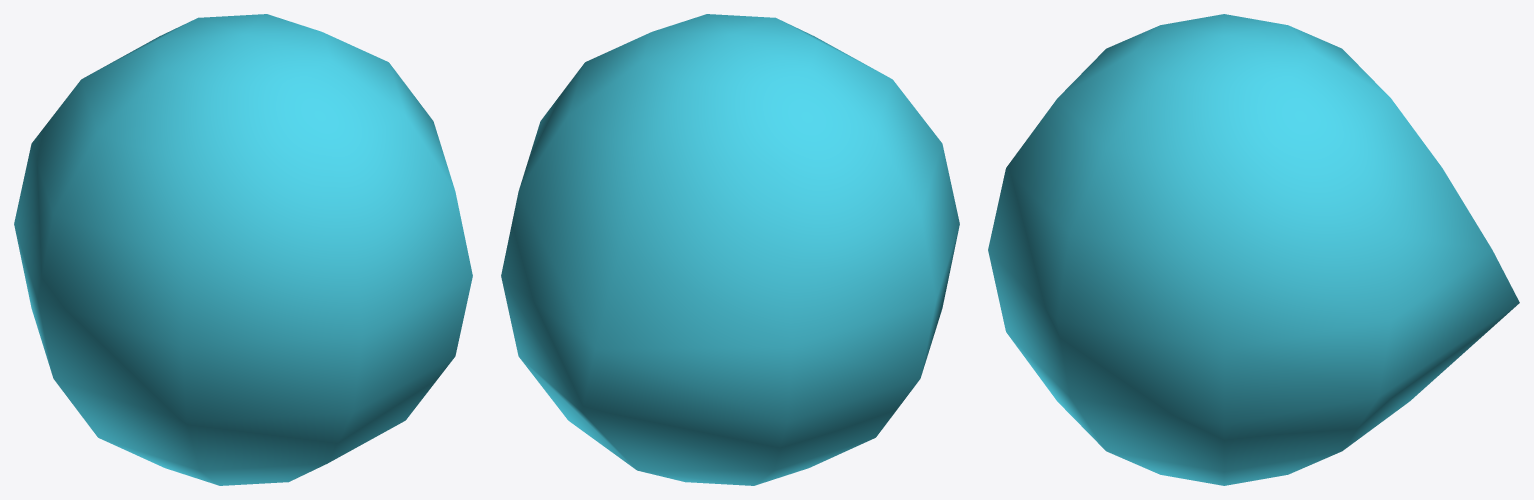
The model's file is bubblegum_blue.fbx.
The picture shows the model from 3 angles, left to right: view 1: azimuth 30°, elevation 25°; view 2: azimuth 150°, elevation 25°; view 3: azimuth 270°, elevation 25°; orthographic projection.
Parts seen in each view (by area): view 1: bubblegum_blue; view 2: bubblegum_blue; view 3: bubblegum_blue.
Boxes of the visible parts, x1,y1,x2,y2 form: bubblegum_blue: [14, 14, 472, 485]; bubblegum_blue: [501, 14, 959, 485]; bubblegum_blue: [988, 14, 1519, 485].
Bounding box in the file's own units: 30.13 × 30.13 × 33.92.
1 material, 1 textured.
